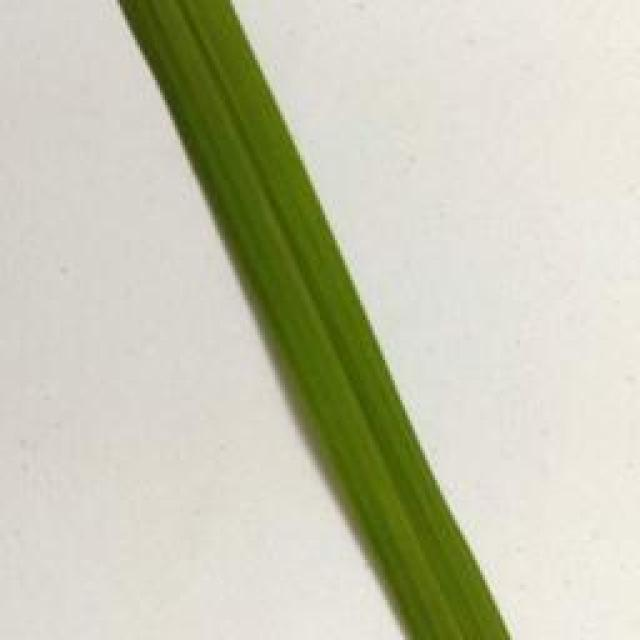Healthy-Plant: (121, 3, 506, 640)
